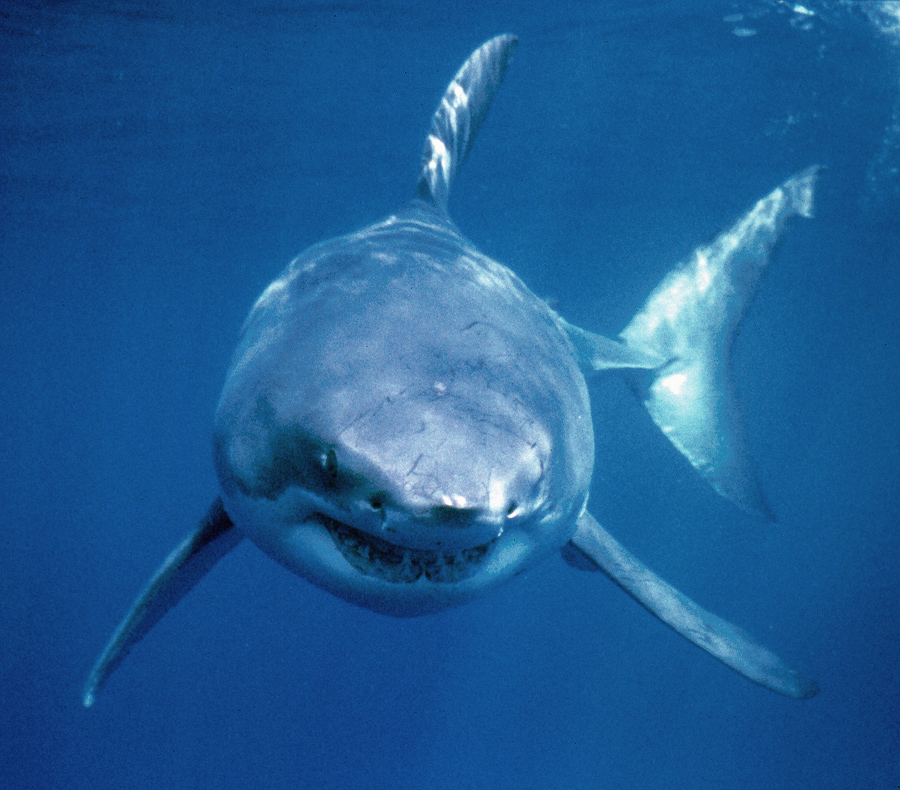Carcharodon_carcharias: (77, 12, 857, 776)
